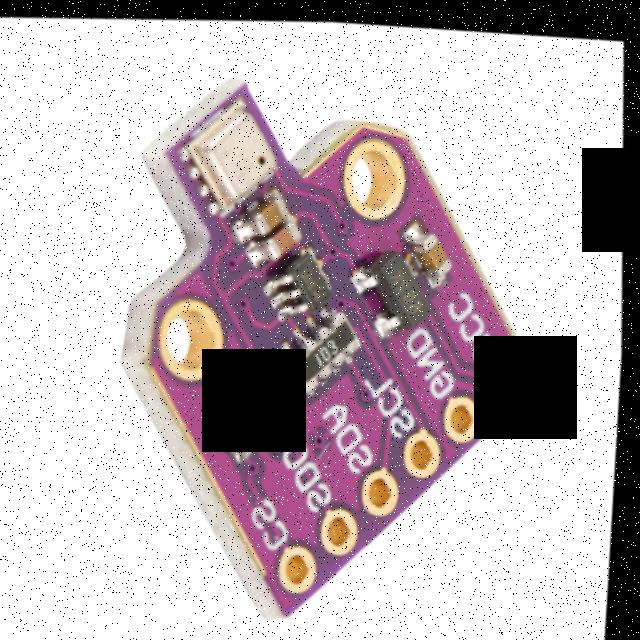4439: (358, 243, 448, 337)
IC: (277, 243, 344, 319)
capacitor 1V5: (233, 183, 295, 231), (413, 222, 456, 273), (262, 213, 310, 252)
clock Q1: (185, 101, 287, 205)
resistor IR1: (285, 309, 369, 388), (209, 398, 265, 452), (245, 372, 285, 422)
